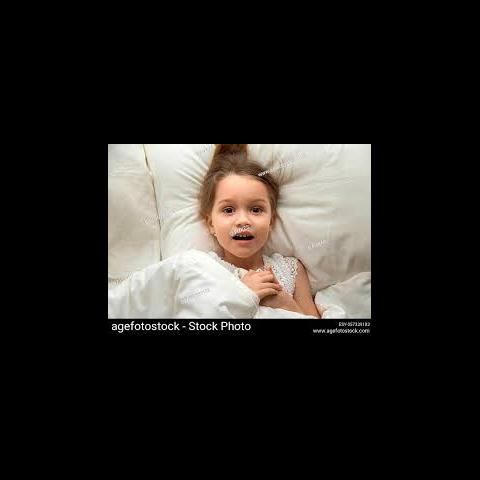opened: (220, 202, 267, 220)
